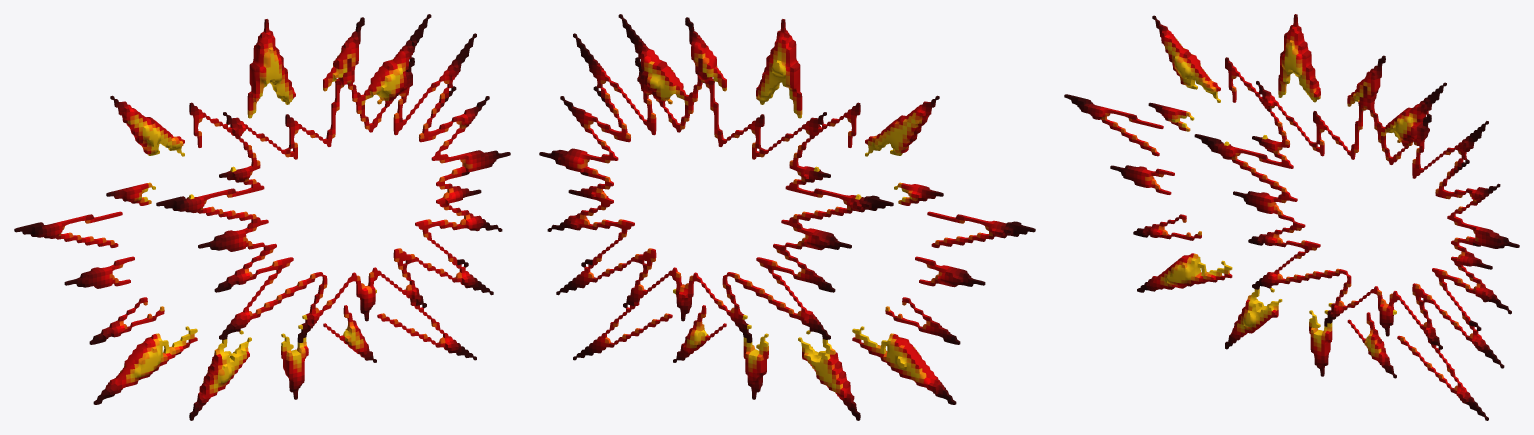
Rendered from Fight_749_2_27.obj.
3 renders of one model, left to right at view 1: azimuth 30°, elevation 25°; view 2: azimuth 150°, elevation 25°; view 3: azimuth 330°, elevation 25°, orthographic. The views are drawn at different scales.
Bounding box in the file's own units: 11.86 × 8.96 × 0.5.
Materials: 1 (1 with a texture image).
